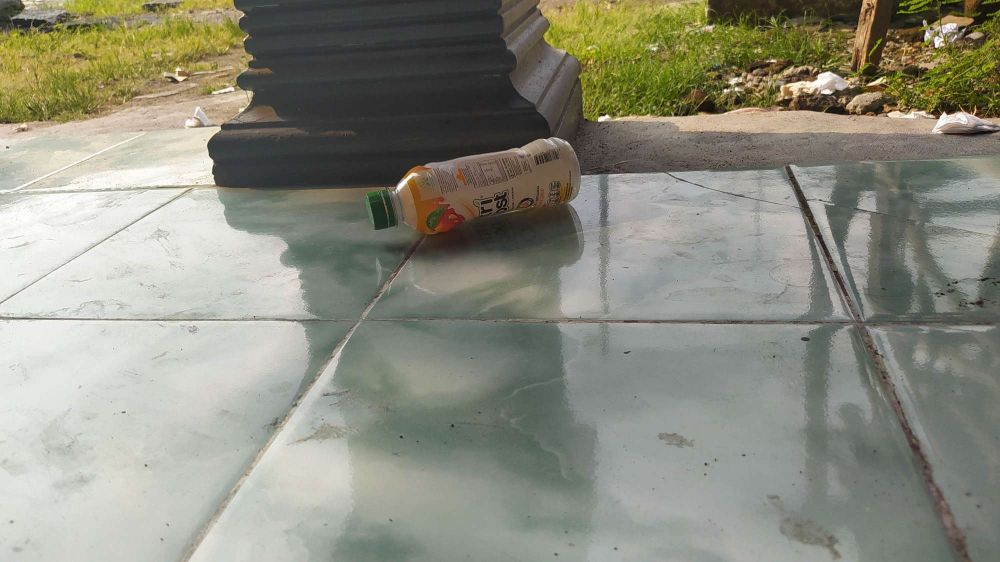botol: (352, 137, 634, 266)
